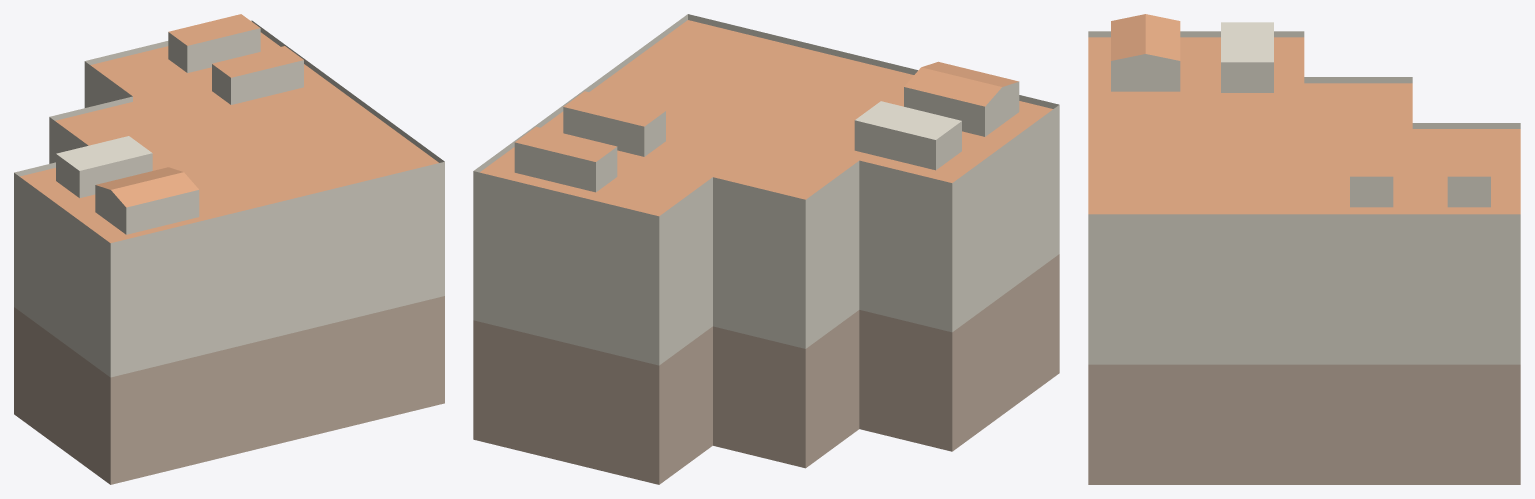
3 views of the same model, side by side, from view 1: azimuth 30°, elevation 25°; view 2: azimuth 150°, elevation 25°; view 3: azimuth 270°, elevation 25° (orthographic). The views are drawn at different scales.
Visible parts, largest first — view 1: Object_13, Object_21, Object_8, Object_12, Object_20, Object_2, Object_1, Object_5, Object_4, Object_3, Object_7, Object_6 (+5 smaller); view 2: Object_8, Object_15, Object_23, Object_12, Object_11, Object_9, Object_20, Object_19, Object_17, Object_10, Object_16, Object_18 (+10 smaller); view 3: Object_14, Object_22, Object_8, Object_2, Object_3, Object_1, Object_7, Object_6, Object_5, Object_4, Object_10, Object_12 (+1 smaller).
Boxes of the visible parts, <box> form: Object_13: <box>110,161,444,377</box>; Object_21: <box>110,296,444,484</box>; Object_8: <box>20,32,438,243</box>; Object_12: <box>14,173,110,377</box>; Object_20: <box>14,307,110,484</box>; Object_2: <box>56,136,152,198</box>; Object_1: <box>95,185,199,234</box>; Object_5: <box>212,60,303,104</box>; Object_4: <box>168,28,260,72</box>; Object_3: <box>96,167,198,207</box>; Object_7: <box>168,14,259,45</box>; Object_6: <box>212,46,303,77</box>; Object_8: <box>480,20,1052,216</box>; Object_15: <box>473,171,659,365</box>; Object_23: <box>473,320,659,484</box>; Object_12: <box>952,105,1059,331</box>; Object_11: <box>859,160,952,332</box>; Object_9: <box>713,177,805,348</box>; Object_20: <box>952,254,1059,451</box>; Object_19: <box>859,310,952,451</box>; Object_17: <box>713,326,805,468</box>; Object_10: <box>805,161,859,348</box>; Object_16: <box>659,177,712,365</box>; Object_18: <box>805,310,859,467</box>; Object_14: <box>1088,214,1520,364</box>; Object_22: <box>1088,364,1520,484</box>; Object_8: <box>1088,37,1520,214</box>; Object_2: <box>1221,22,1273,92</box>; Object_3: <box>1111,14,1180,60</box>; Object_1: <box>1111,54,1180,91</box>; Object_7: <box>1447,136,1490,176</box>; Object_6: <box>1350,136,1393,176</box>; Object_5: <box>1350,176,1393,207</box>; Object_4: <box>1447,176,1490,207</box>; Object_10: <box>1304,77,1412,83</box>; Object_12: <box>1088,31,1304,37</box>.
Size of the model in its own units: 1283 by 1283 by 989.
